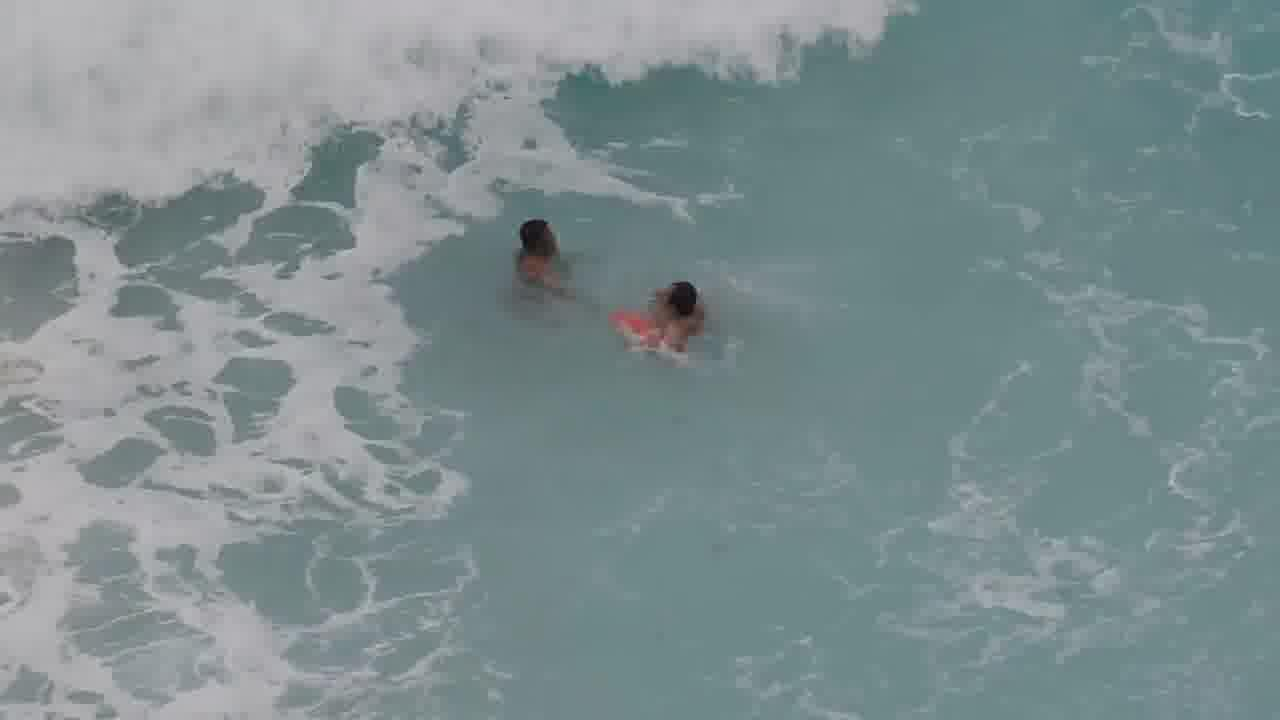human: (647, 269, 716, 354), (509, 206, 565, 278)
